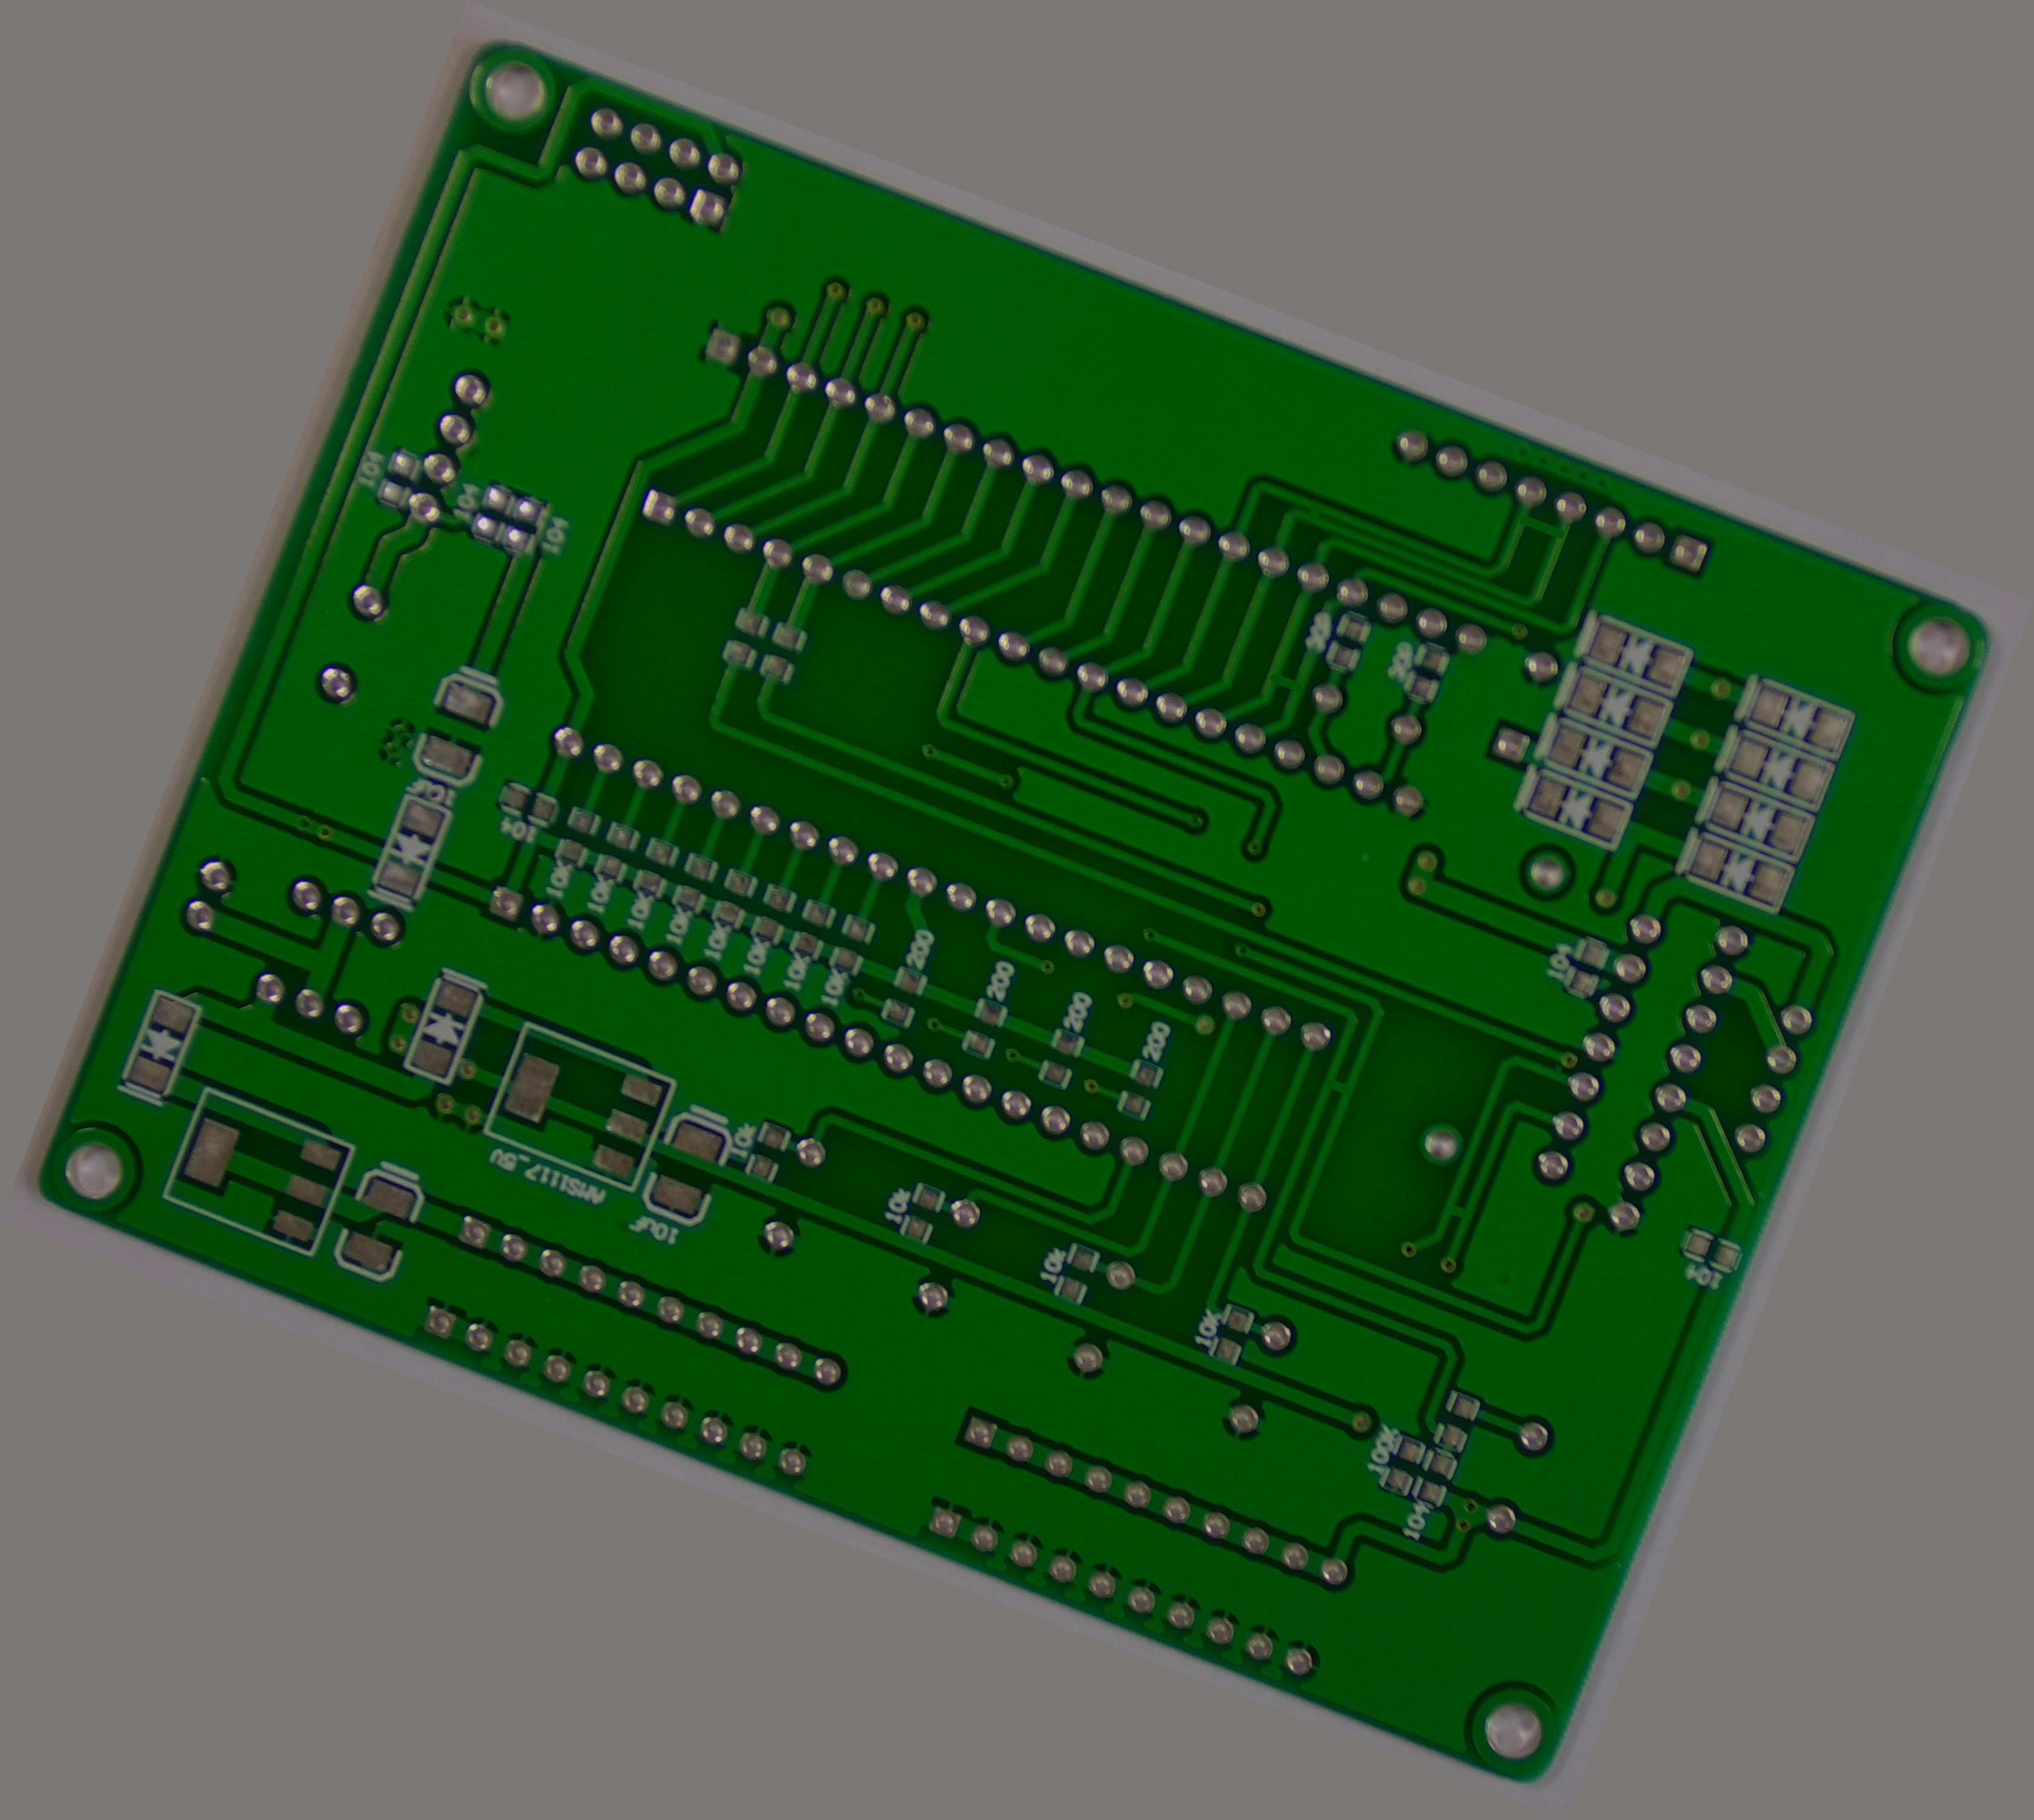short: (1502, 495, 1577, 553), (1252, 654, 1314, 710), (1310, 1061, 1365, 1112), (1287, 487, 1338, 536), (1432, 1184, 1482, 1233)
